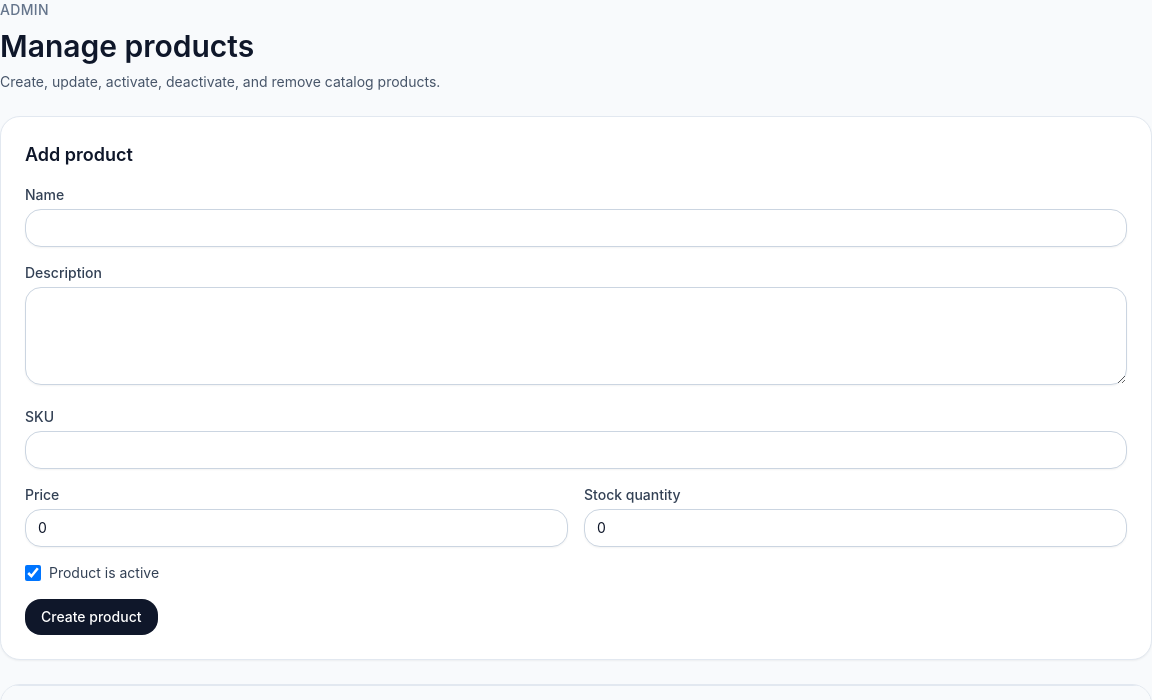
AdminProductsPage › shows backend validation errors on create failure
In the field labelled "Name": coordinates (576, 228) [25, 209, 1127, 247], type "Duplicate SKU Product"
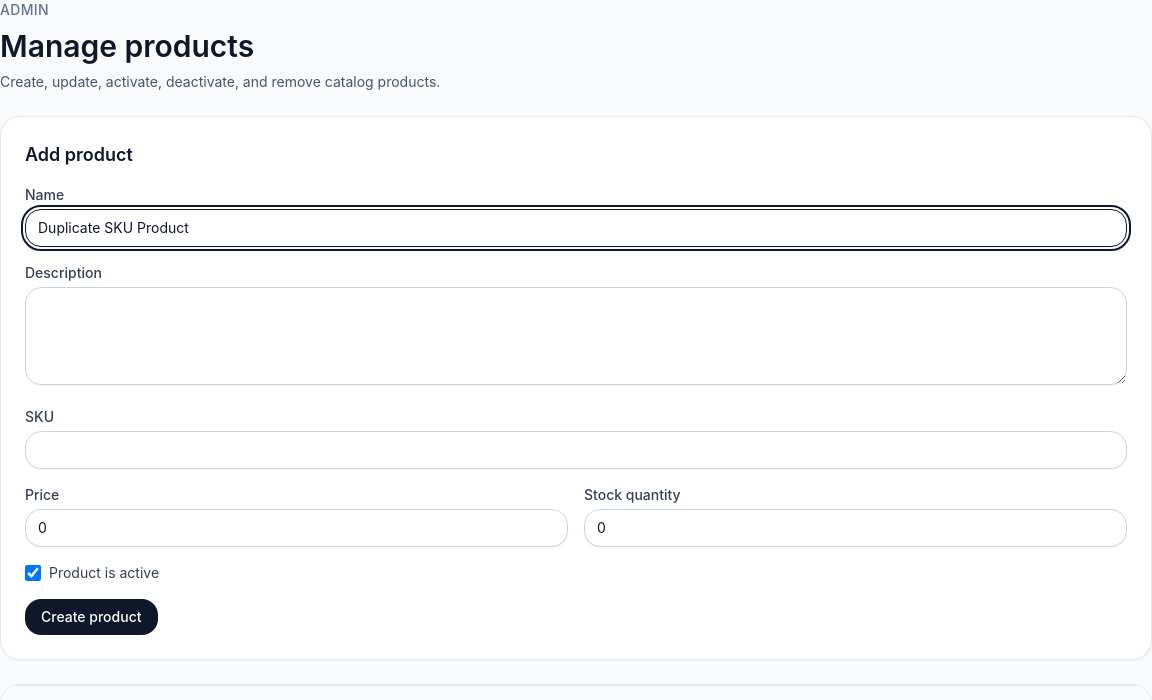
In the field labelled "SKU": coordinates (576, 450) [25, 431, 1127, 469], type "WM-001"
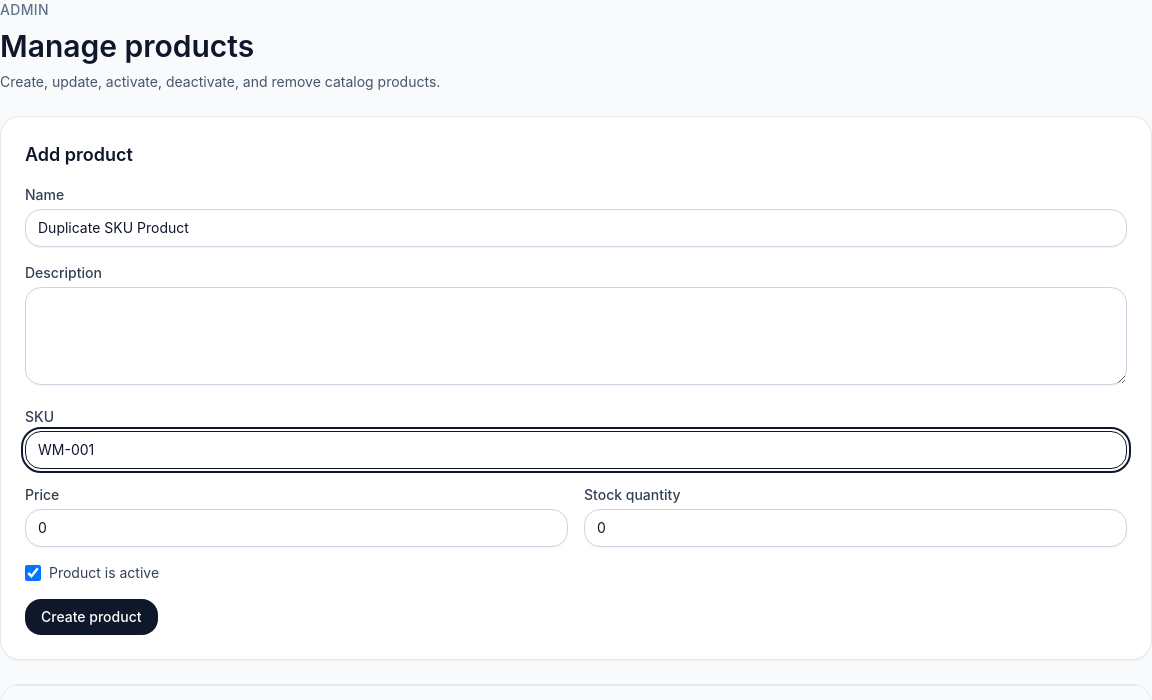
Replace the text in the number field labelled "Price" with "10": coordinates (296, 528) [25, 509, 568, 547]
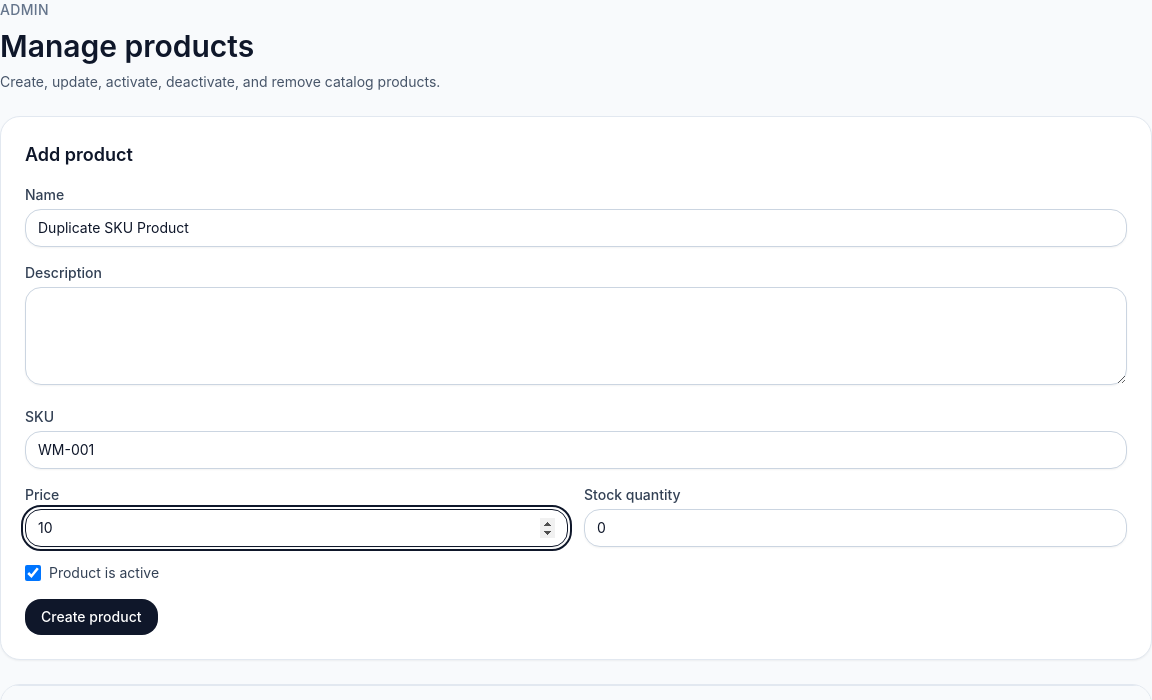
Click the button "Create product": coordinates (91, 617) [25, 599, 158, 635]
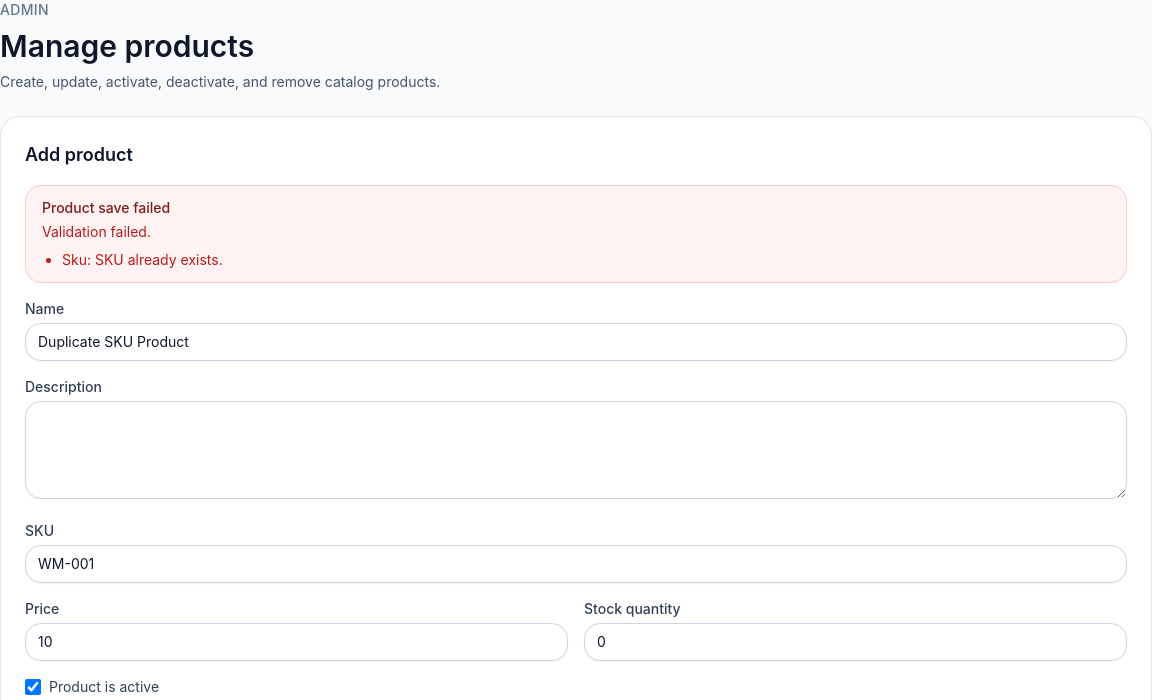
Expected: the text "Validation failed." is shown, [42, 223, 151, 240]
Expected: the list item "Sku: SKU already exists." is shown, [62, 251, 223, 268]
